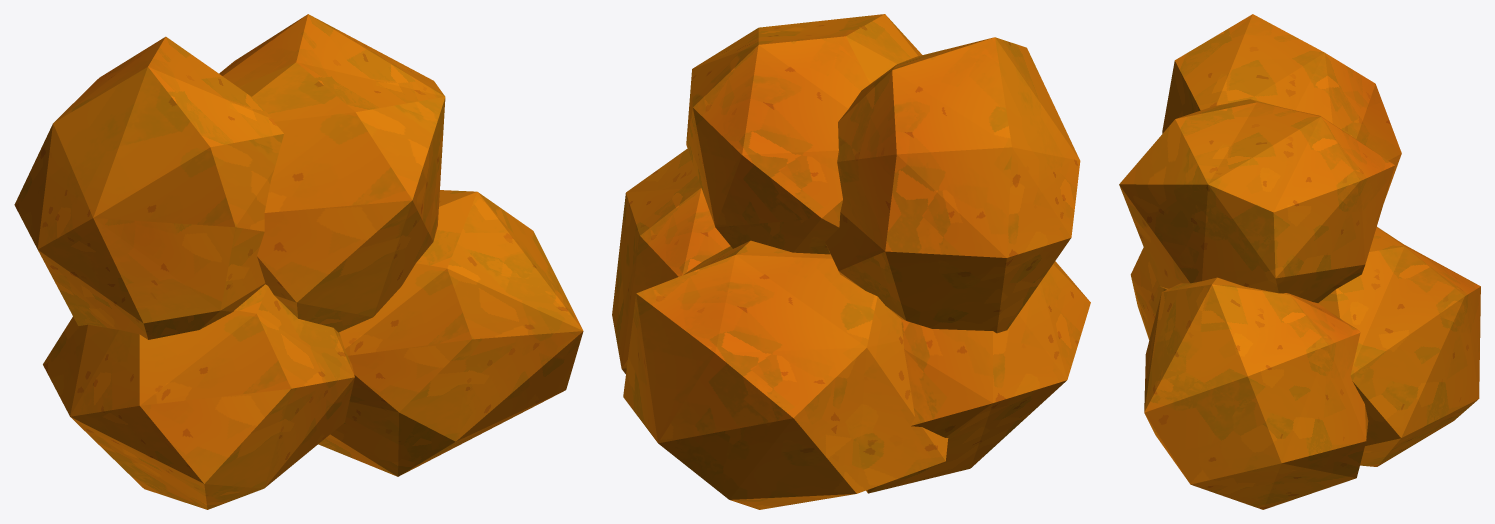
Rendered from gf_int_bigbolders5_1.glb.
3 views of the same model, side by side, from view 1: azimuth 30°, elevation 25°; view 2: azimuth 150°, elevation 25°; view 3: azimuth 270°, elevation 25° (orthographic). The views are drawn at different scales.
Visible parts, largest first — view 1: rocks2.1; view 2: rocks2.1; view 3: rocks2.1.
Boxes of the visible parts, bbox=[...] form: rocks2.1: bbox=[14, 14, 583, 509]; rocks2.1: bbox=[612, 14, 1090, 509]; rocks2.1: bbox=[1119, 14, 1480, 509].
Size of the model in its own units: 2.05 by 1.93 by 1.64.
1 material, 1 textured.
